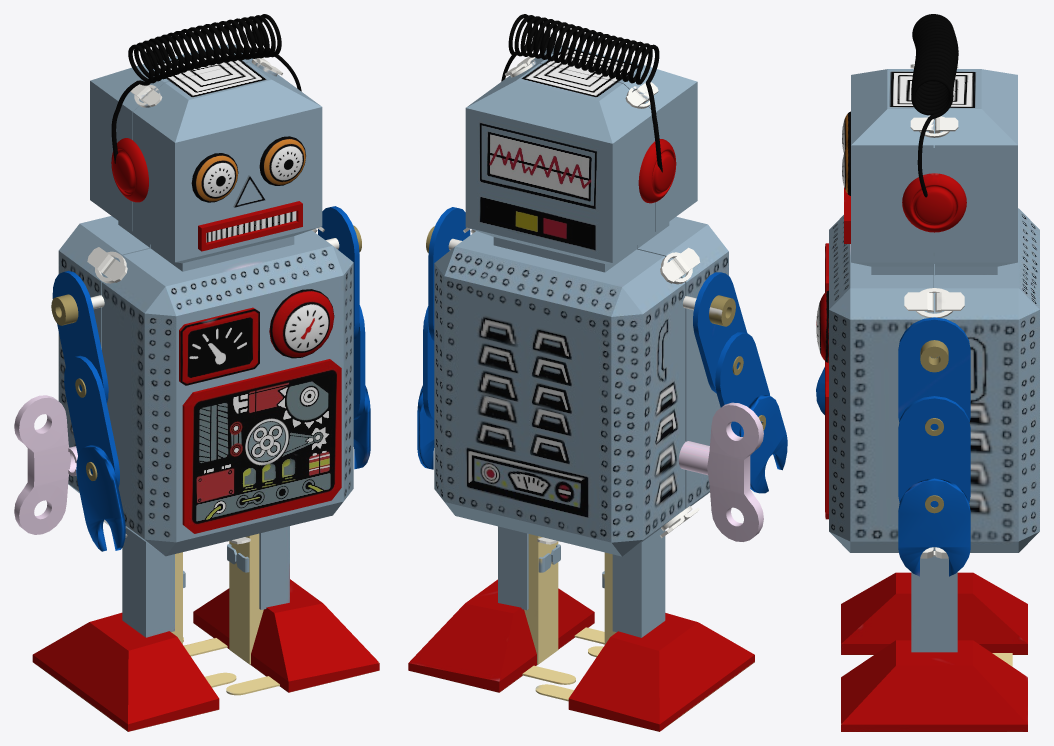
The model's file is toy.glb.
3 renders of one model, left to right at view 1: azimuth 30°, elevation 25°; view 2: azimuth 150°, elevation 25°; view 3: azimuth 270°, elevation 25°, orthographic.
Visible parts, largest first — view 1: pCube18, pCube17, polySurface6, polySurface7, pCylinder28, pCylinder19, pCylinder16, pCylinder18, pCylinder29, pCylinder30, pCylinder11; view 2: pCube18, pCube17, polySurface6, polySurface7, pCylinder28, pCylinder19, pCylinder16, pCylinder18, pCylinder29, pCylinder30, pCylinder11; view 3: pCube18, pCube17, polySurface7, polySurface6, pCylinder30, pCylinder29, pCylinder11.
Boxes of the visible parts, x1,y1,x2,y2 form: pCube18: (58,216,353,556); pCube17: (90,14,322,271); polySurface6: (32,528,236,731); polySurface7: (184,526,379,695); pCylinder28: (14,395,77,534); pCylinder19: (51,270,108,402); pCylinder16: (64,355,119,487); pCylinder18: (76,445,125,551); pCylinder29: (318,206,361,340); pCylinder30: (353,305,365,419); pCylinder11: (353,385,370,469); pCube18: (434,216,728,556); pCube17: (465,14,697,272); polySurface6: (535,528,754,731); polySurface7: (408,526,604,692); pCylinder28: (678,402,763,541); pCylinder19: (682,272,747,393); pCylinder16: (715,332,769,435); pCylinder18: (739,395,787,493); pCylinder29: (426,207,470,340); pCylinder30: (423,306,434,420); pCylinder11: (417,385,434,469); pCube18: (816,208,1039,558); pCube17: (842,14,1017,274); polySurface7: (841,547,1027,731); polySurface6: (841,572,1027,666); pCylinder30: (898,396,970,513); pCylinder29: (898,317,970,435); pCylinder11: (898,478,970,576).
Size of the model in its own units: 1.09 by 2 by 0.6473.
4 materials, 4 textured.
